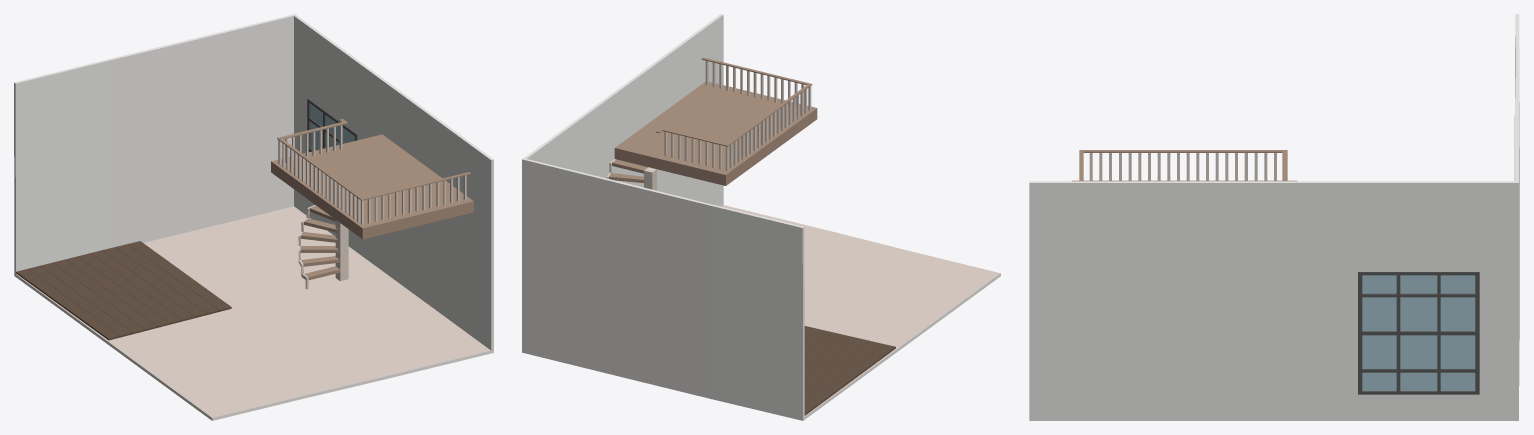
Rendered from apartment_01.glb.
The picture shows the model from 3 angles, left to right: view 1: azimuth 30°, elevation 25°; view 2: azimuth 150°, elevation 25°; view 3: azimuth 270°, elevation 25°; orthographic projection. The views are drawn at different scales.
Parts seen in each view (by area): view 1: apartment_01; view 2: apartment_01; view 3: apartment_01.
Part boxes in pixels (x1,y1,x2,y2): apartment_01: [14, 14, 493, 420]; apartment_01: [522, 14, 1000, 420]; apartment_01: [1029, 14, 1519, 420].
Size of the model in its own units: 8.02 by 5.26 by 9.81.
1 material, 1 textured.
